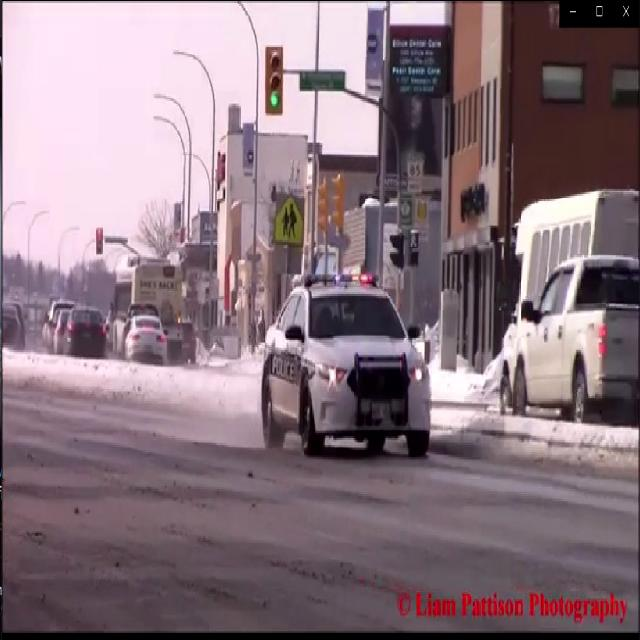emergency: (260, 256, 434, 472)
